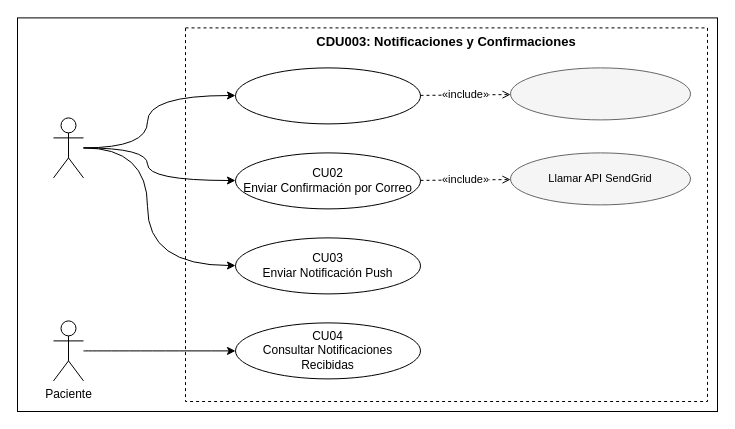
Some shapes in this 735 by 429 pixel diagram are drawn without their labels. Each missing label, with the centre of its shape:
"Consumir Mensaje de RabbitMQ" belongs at point 600,93.
"CU01 Publicar Evento de Cita a RabbitMQ" belongs at point 327,95.
"Sistema (Evento Interno)" belongs at point 68,147.
